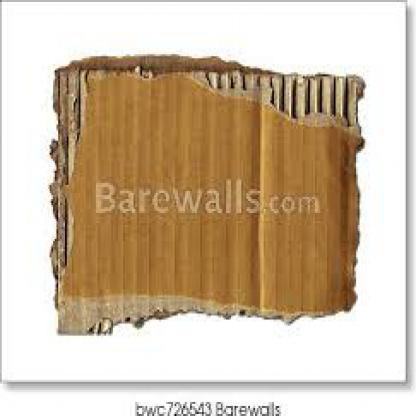CARDBOARD: (48, 52, 363, 334)
